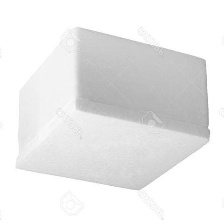foam_box: (8, 23, 215, 195)
